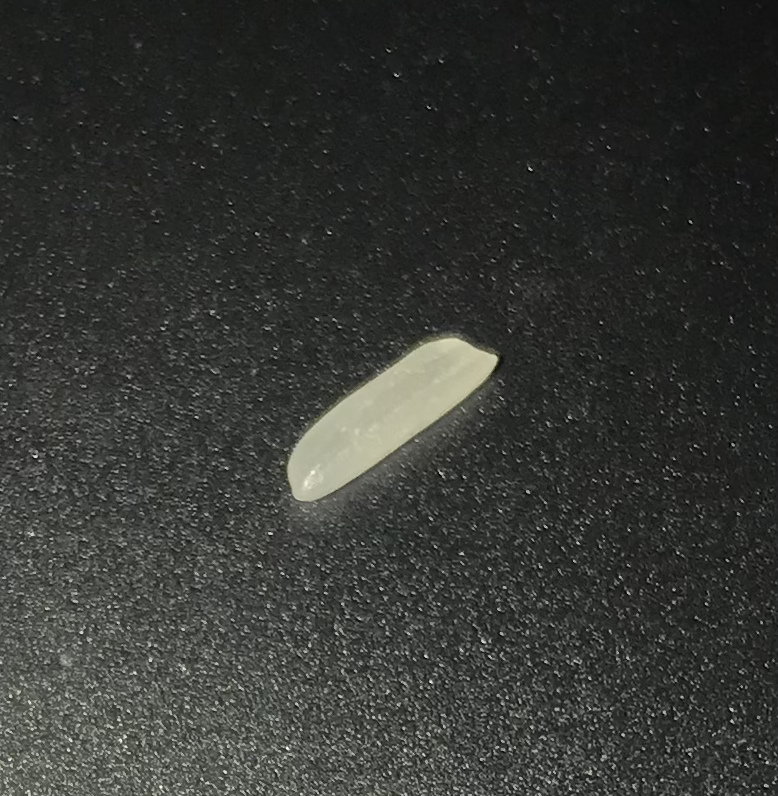Gao Thom My: (288, 323, 506, 497)
